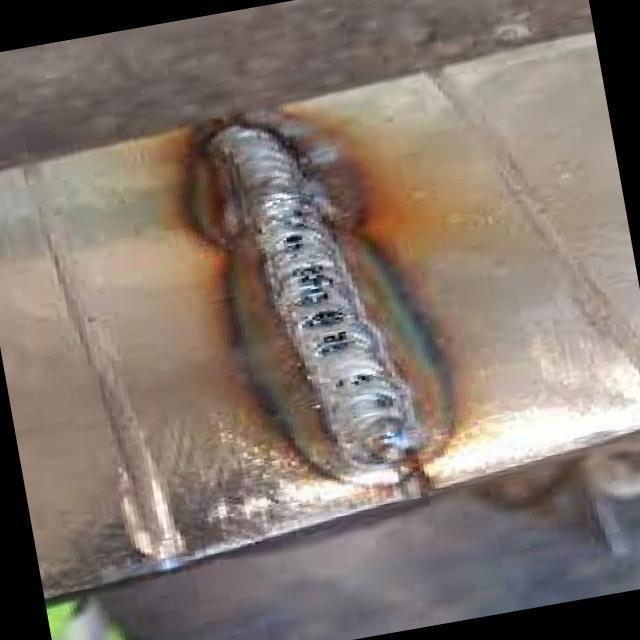defect: (285, 260, 342, 314), (298, 303, 352, 332), (310, 326, 351, 359), (335, 368, 375, 390), (272, 231, 308, 254)
